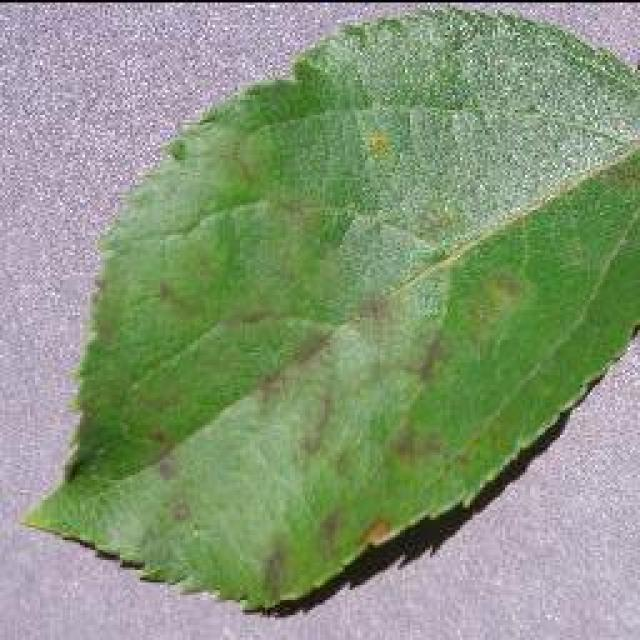apple scab disease: (20, 2, 638, 618)
